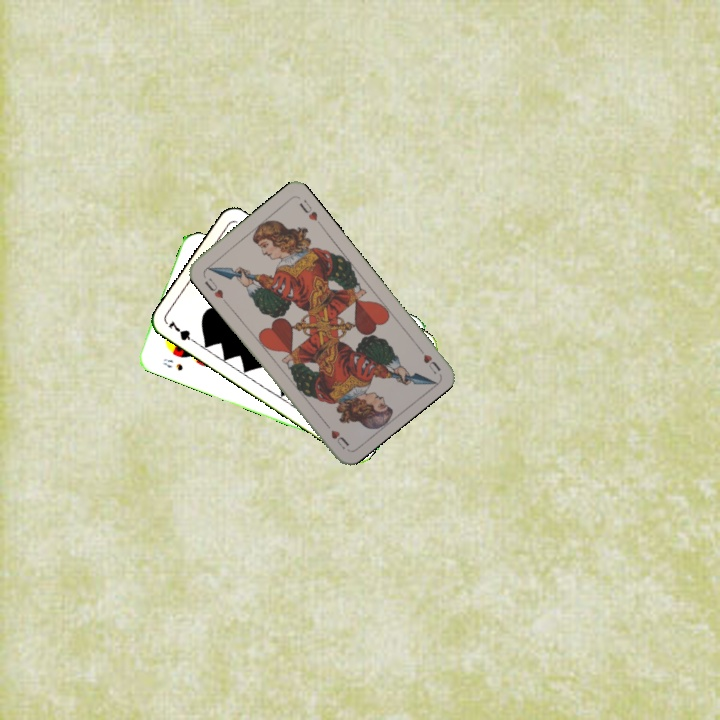G7: (164, 316, 200, 347)
HU: (413, 341, 443, 377), (200, 274, 226, 301)
S8: (159, 354, 185, 373)
